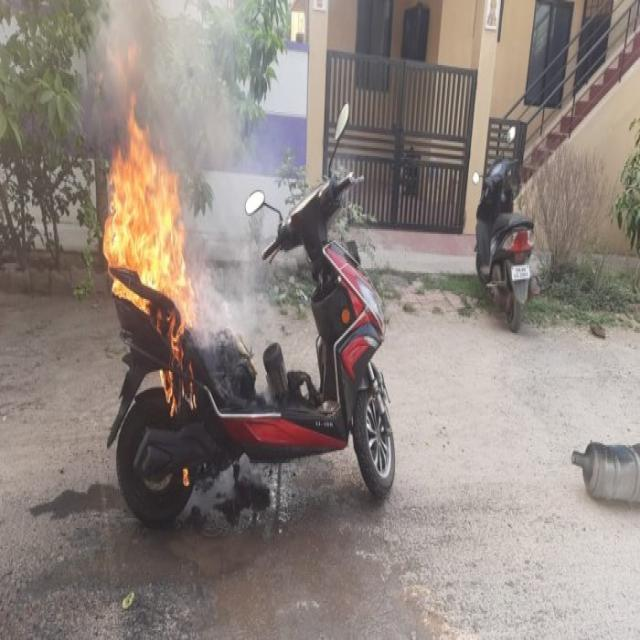fire: (102, 128, 197, 344), (162, 358, 196, 418)
